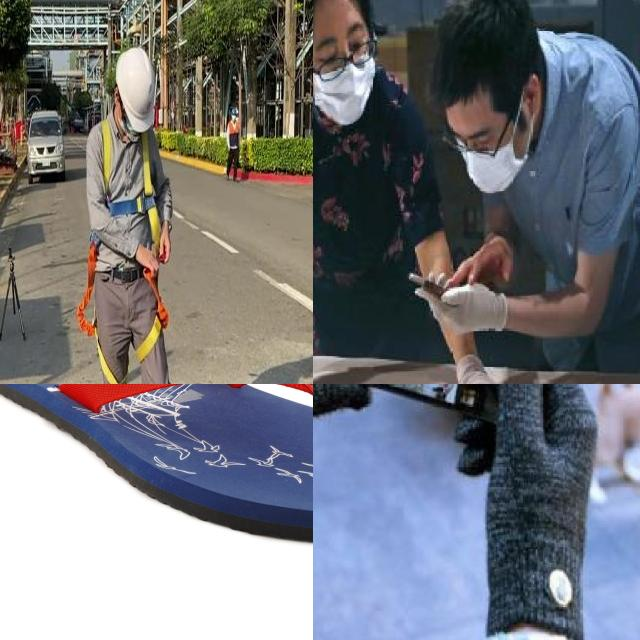Harness: (100, 122, 161, 250), (77, 240, 127, 384), (137, 271, 171, 364)
Sandals: (0, 384, 313, 546)
face_mask: (441, 82, 538, 195), (313, 0, 376, 127)
glasses: (313, 36, 382, 82), (438, 134, 500, 163)
hand_glove: (454, 384, 600, 561), (415, 270, 500, 335)
hand_noglove: (446, 235, 513, 287)
head_nohelmet: (419, 0, 513, 114)
person: (409, 0, 640, 365), (313, 0, 449, 384)
